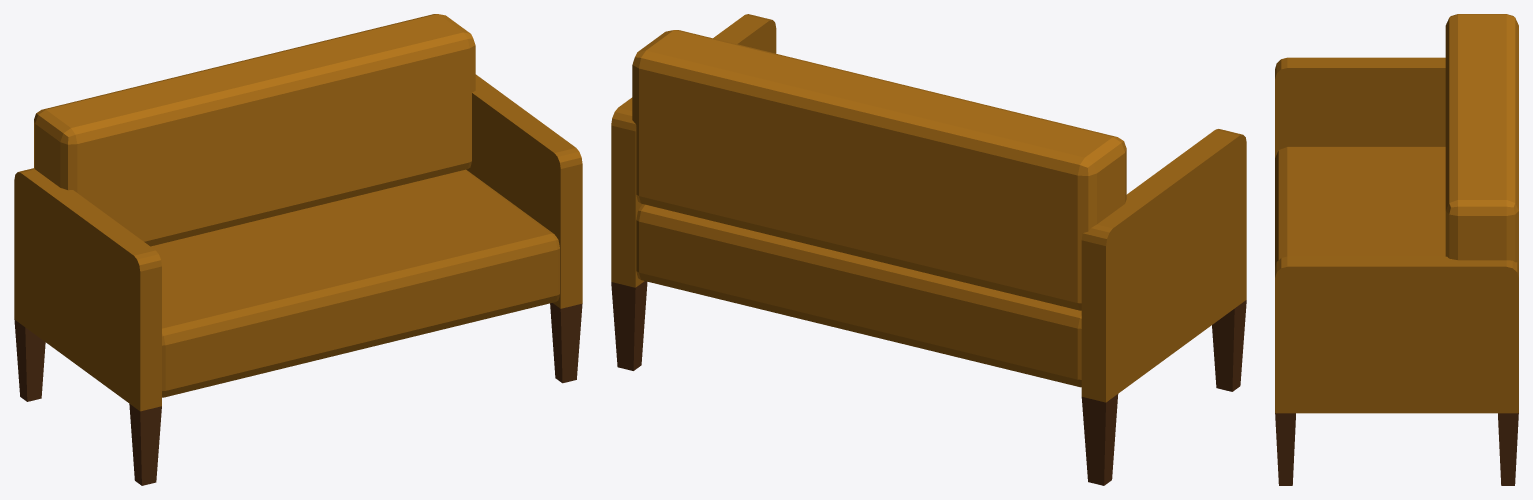
File: SOFA_PANJANG.fbx
3 renders of one model, left to right at view 1: azimuth 30°, elevation 25°; view 2: azimuth 150°, elevation 25°; view 3: azimuth 270°, elevation 25°, orthographic. The views are drawn at different scales.
Parts seen in each view (by area): view 1: Sofa panjang; view 2: Sofa panjang; view 3: Sofa panjang.
Boxes of the visible parts, box(x1,y1,x2,y2) form: Sofa panjang: box(14, 14, 582, 485); Sofa panjang: box(611, 14, 1246, 485); Sofa panjang: box(1275, 14, 1518, 485).
Size of the model in its own units: 406 by 250 by 200.
